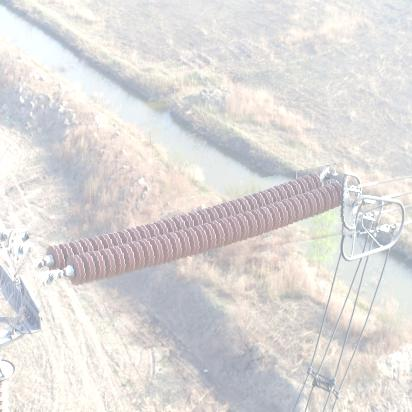insulator: (30, 179, 356, 281)
